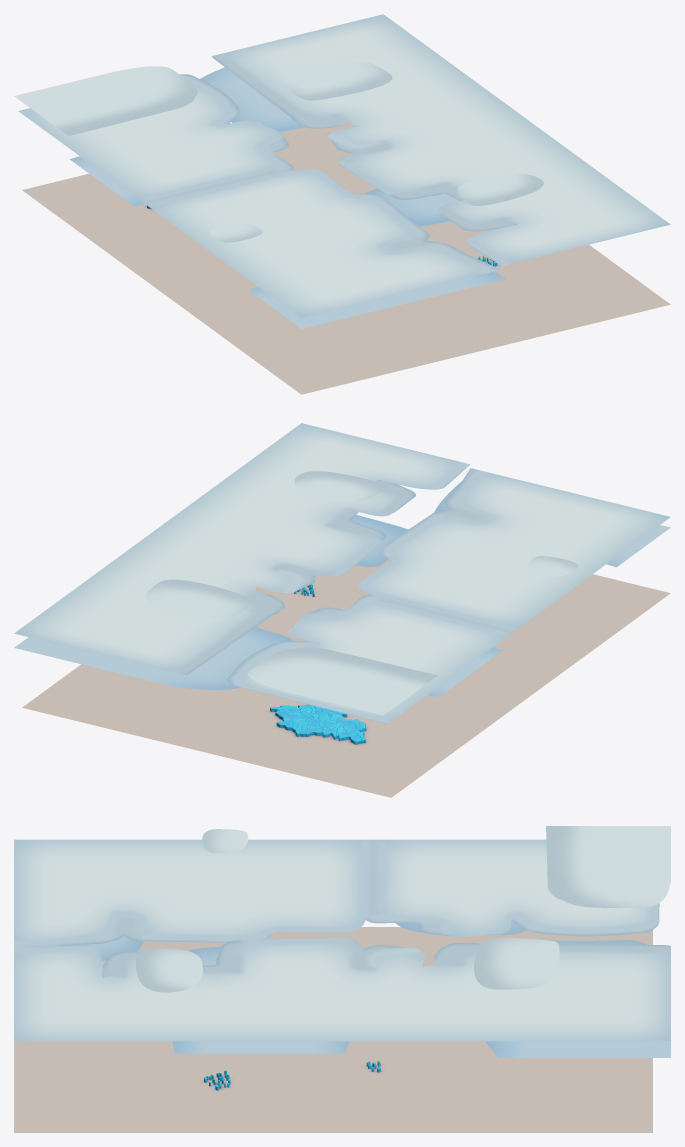
Rendered from VN_MAP.fbx.
3 renders of one model, top to bottom at view 1: azimuth 30°, elevation 25°; view 2: azimuth 150°, elevation 25°; view 3: azimuth 270°, elevation 25°, orthographic. The views are drawn at different scales.
Visible parts, largest first — view 1: back_ground, polySurface2, polySurface1, polySurface3, polySurface5, polySurface10, polySurface9, polySurface7, polySurface4, polySurface6; view 2: polySurface2, back_ground, polySurface1, polySurface3, polySurface5, polySurface9, polySurface7, polySurface10, polySurface4, polySurface6; view 3: back_ground, polySurface2, polySurface1, polySurface3, polySurface5, polySurface9, polySurface7, polySurface4, polySurface10.
Part boxes in pixels (x1,y1,x2,y2): back_ground: [22, 123, 670, 394]; polySurface2: [211, 14, 670, 265]; polySurface1: [18, 74, 501, 318]; polySurface3: [14, 66, 197, 135]; polySurface5: [279, 61, 543, 205]; polySurface10: [247, 271, 505, 328]; polySurface9: [200, 67, 303, 132]; polySurface7: [364, 188, 458, 225]; polySurface4: [210, 223, 262, 242]; polySurface6: [69, 156, 144, 206]; polySurface2: [14, 423, 469, 675]; back_ground: [22, 528, 670, 797]; polySurface1: [227, 468, 670, 724]; polySurface3: [248, 647, 437, 715]; polySurface5: [145, 471, 385, 622]; polySurface9: [14, 627, 292, 689]; polySurface7: [350, 515, 406, 566]; polySurface10: [434, 482, 670, 567]; polySurface4: [528, 556, 577, 576]; polySurface6: [428, 647, 502, 697]; back_ground: [14, 927, 652, 1132]; polySurface2: [14, 937, 670, 1041]; polySurface1: [14, 839, 659, 947]; polySurface3: [546, 826, 670, 907]; polySurface5: [135, 938, 559, 992]; polySurface9: [485, 940, 670, 1057]; polySurface7: [172, 946, 349, 1053]; polySurface4: [202, 829, 248, 853]; polySurface10: [81, 936, 143, 960].
Size of the model in its own units: 1604 by 381 by 2162.
